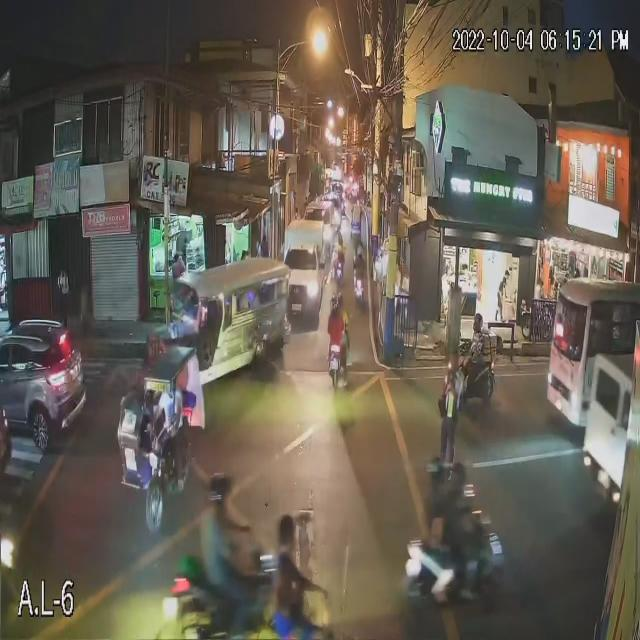helmet: (207, 480, 237, 498), (469, 318, 485, 326), (331, 299, 340, 310)
motorcycle: (397, 529, 522, 595), (179, 571, 307, 632), (432, 359, 503, 400), (322, 338, 348, 382), (353, 283, 368, 303), (335, 256, 347, 279)
rider: (205, 506, 247, 614), (425, 492, 444, 577), (454, 498, 469, 570), (329, 317, 342, 361), (473, 334, 484, 370)
